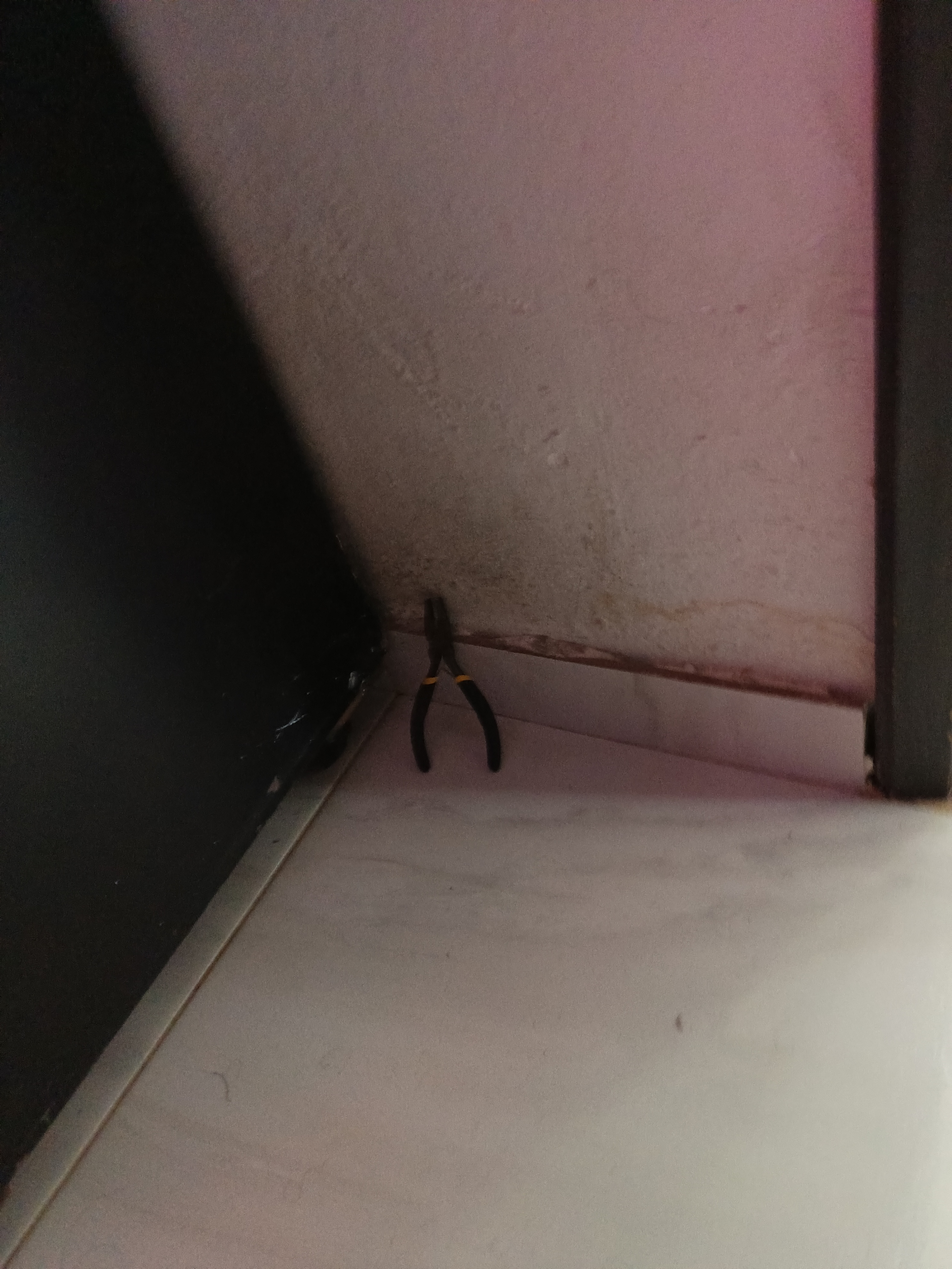Pinzas: (411, 588, 501, 772)
